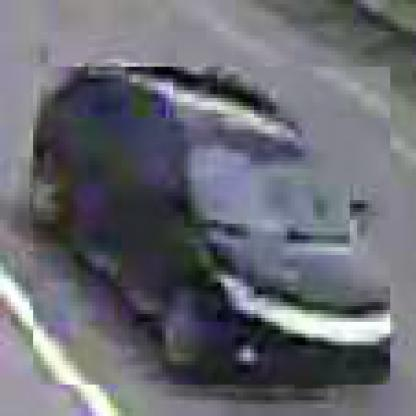car: (34, 68, 395, 390)
